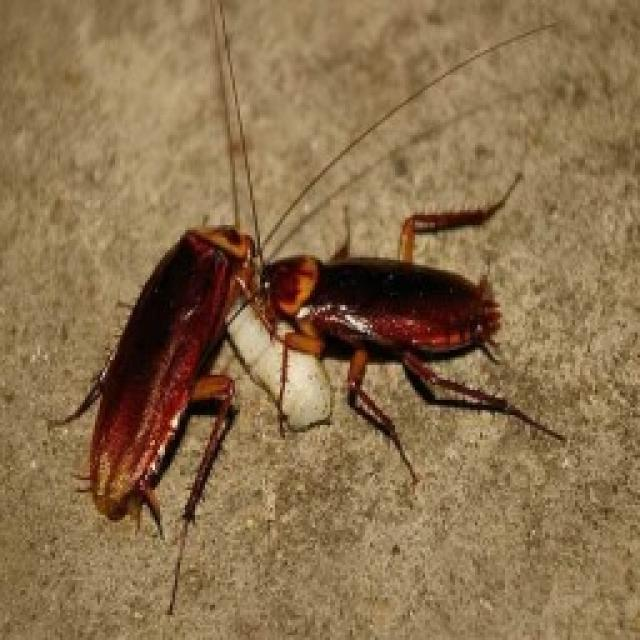cockroach: (50, 182, 286, 574), (244, 205, 560, 447)
